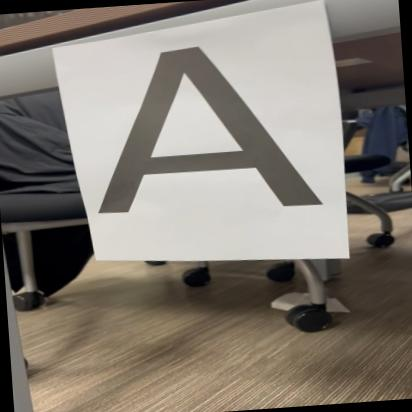seat: (78, 32, 330, 228)
